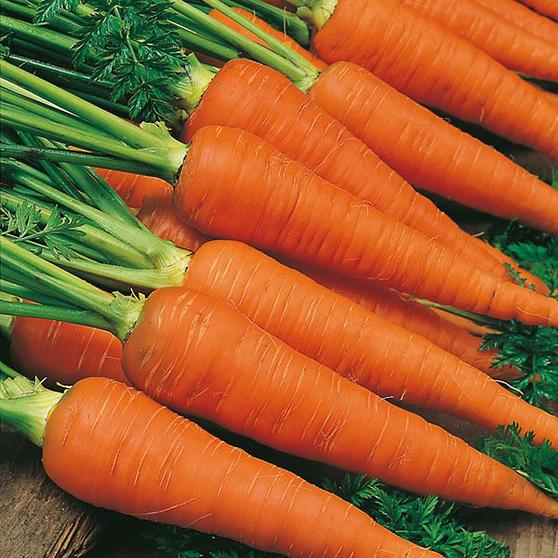carrot: (114, 279, 558, 531), (175, 121, 558, 324), (35, 367, 441, 558), (300, 3, 558, 148)
